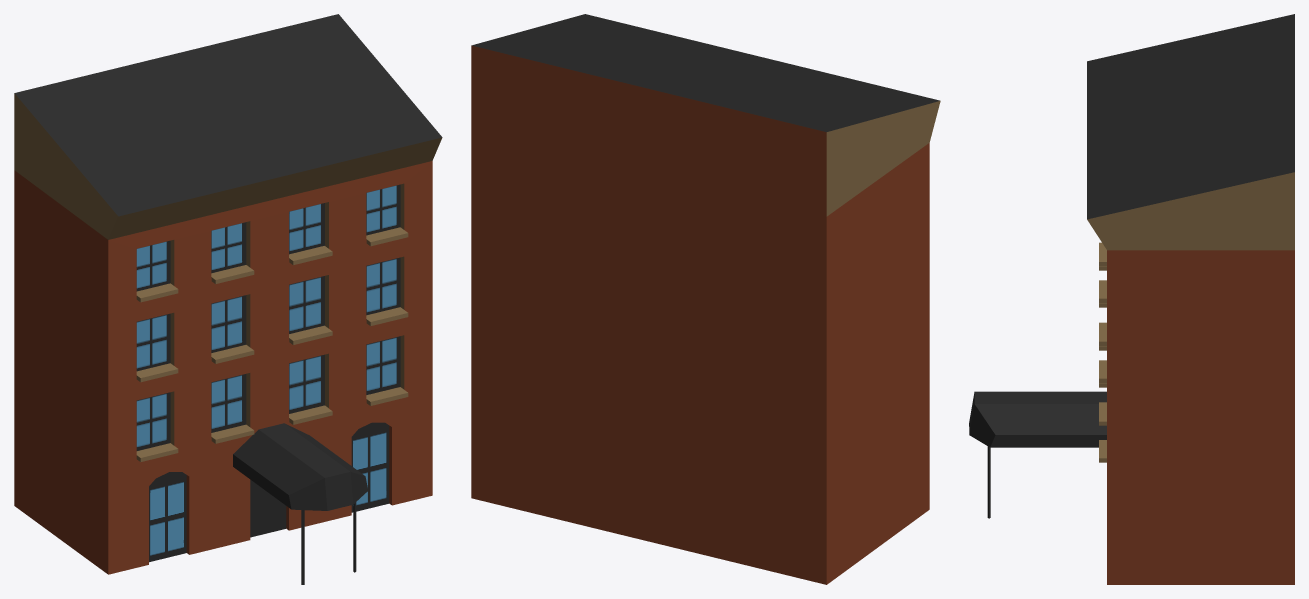
Rendered from JazzBig4.obj.
The picture shows the model from 3 angles, left to right: view 1: azimuth 30°, elevation 25°; view 2: azimuth 150°, elevation 25°; view 3: azimuth 270°, elevation 25°; orthographic projection. The views are drawn at different scales.
Parts seen in each view (by area): view 1: DuzyJazzDONE.003; view 2: DuzyJazzDONE.003; view 3: DuzyJazzDONE.003.
Boxes of the visible parts, box(x1,y1,x2,y2) form: DuzyJazzDONE.003: box(14, 14, 442, 584); DuzyJazzDONE.003: box(471, 14, 940, 584); DuzyJazzDONE.003: box(969, 14, 1294, 584).
Bounding box in the file's own units: 10.95 × 13.33 × 9.53.
